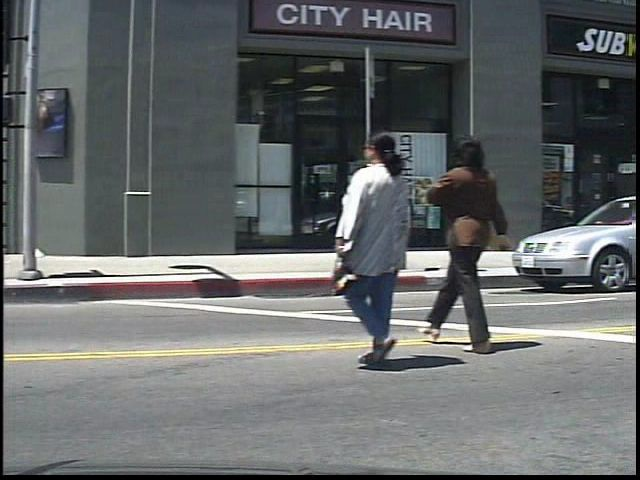person: (431, 125, 530, 356), (343, 122, 431, 372)
